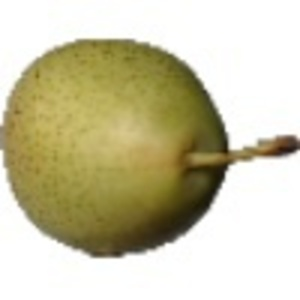pera: (1, 33, 300, 260)
